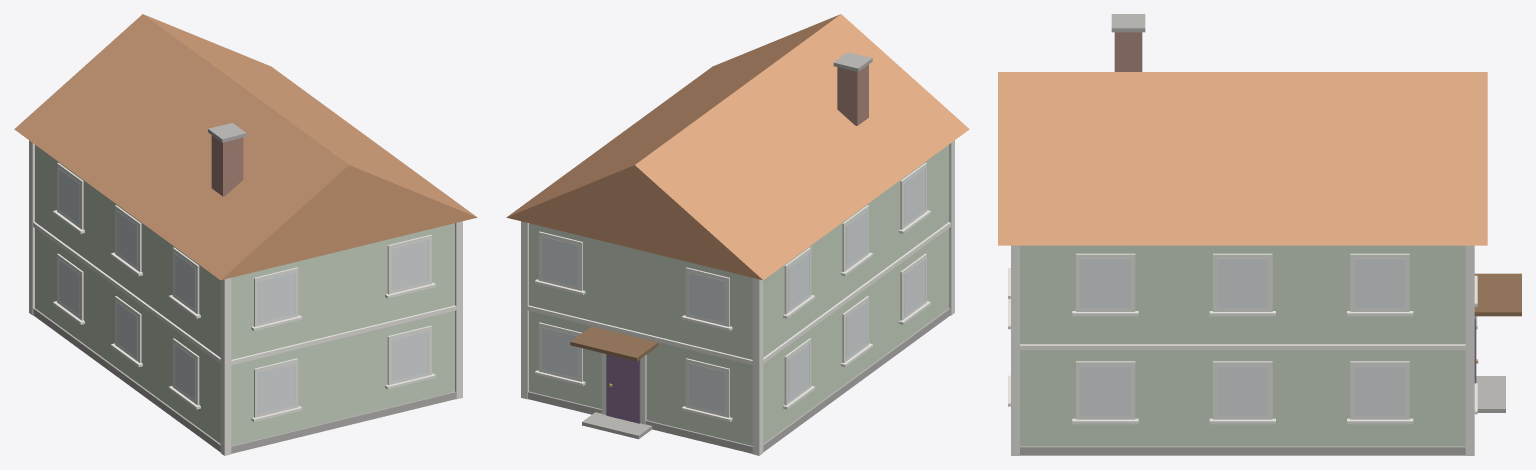
Rendered from townhouse_c.glb.
3 views of the same model, side by side, from view 1: azimuth 30°, elevation 25°; view 2: azimuth 150°, elevation 25°; view 3: azimuth 270°, elevation 25° (orthographic). The views are drawn at different scales.
Visible parts, largest first — view 1: body, roof; view 2: body, roof; view 3: body, roof.
Part boxes in pixels (x1,y1,x2,y2): body: (29, 140, 462, 455); roof: (14, 14, 477, 280); body: (521, 140, 954, 455); roof: (506, 14, 969, 280); body: (1008, 245, 1521, 455); roof: (998, 14, 1487, 245).
Bounding box in the file's own units: 7.7 × 7.89 × 11.45.
